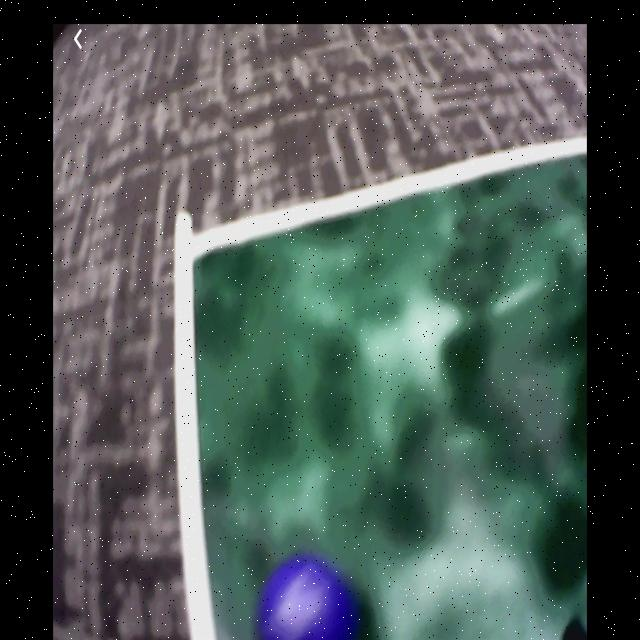ball: (259, 560, 358, 640)
